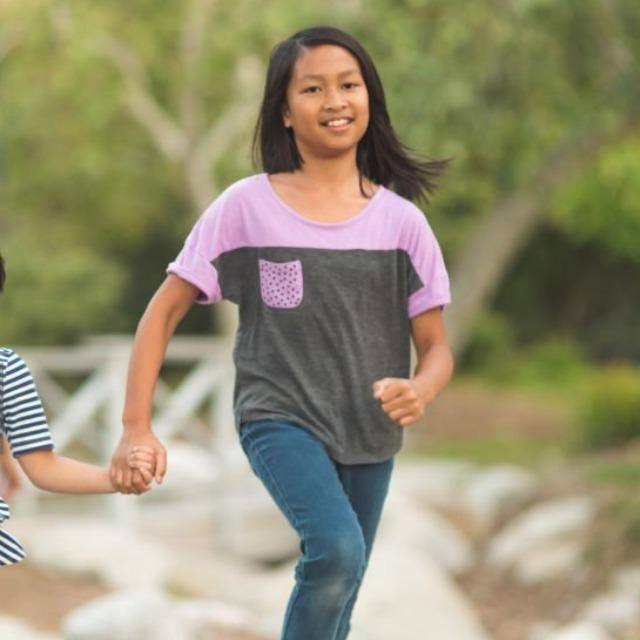Sin_Casco_Mascarrilla: (260, 28, 378, 163)
Sin_Chaleco: (219, 170, 425, 462)
